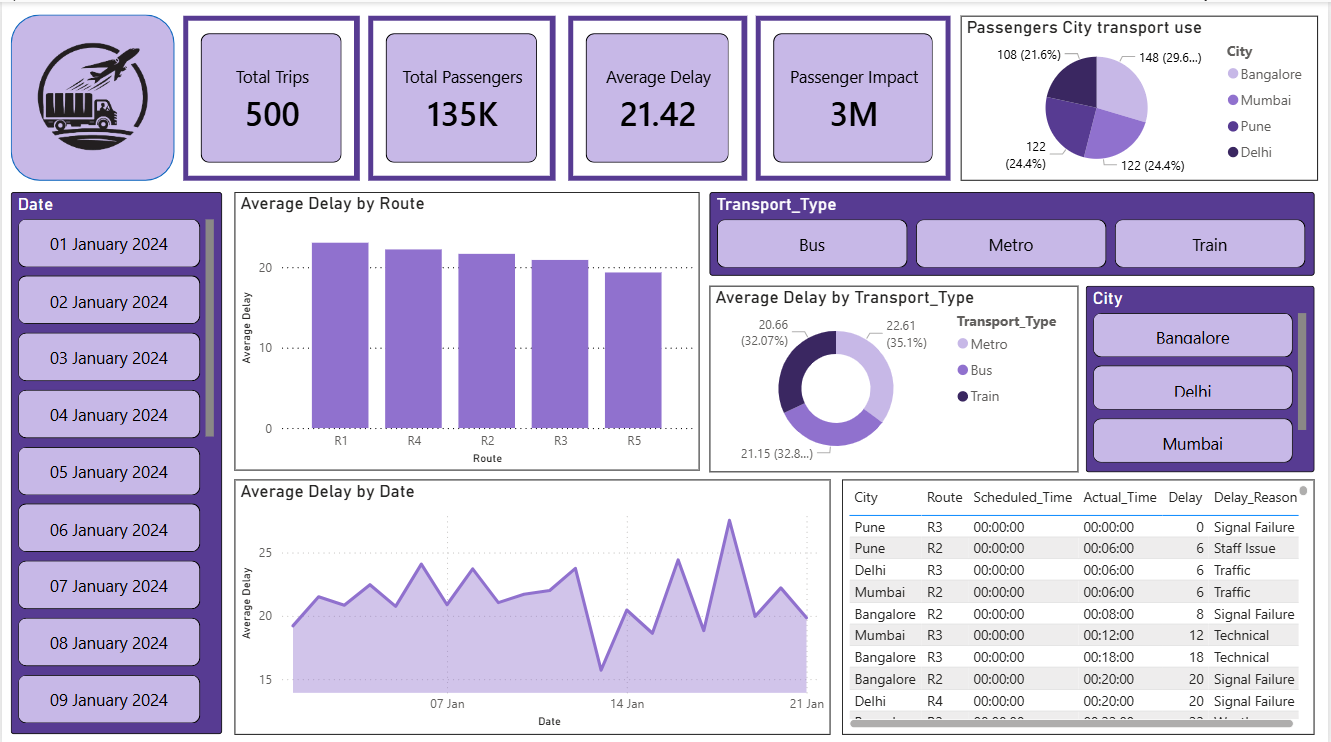

The page's visual inventory and layout, read from the dashboard file:
{"tool":"powerbi","page":{"name":"Page 1","canvas":[1280,720],"ordinal":0},"visuals":[{"type":"shape","box":[8.4,12.1,158,160.5],"z":0},{"type":"image","box":[8.4,9.7,158,162.9],"z":1000},{"type":"cardVisual","fields":{"Data":["CountNonNull(public_transport_delay_data.Source)"]},"box":[174.9,13.3,170.1,159.3],"z":2000},{"type":"cardVisual","fields":{"Data":["Sum(public_transport_delay_data.Passenger_Count)"]},"box":[353.5,13.3,181,159.3],"z":3000},{"type":"cardVisual","fields":{"Data":["Avg(public_transport_delay_data.Delay)"]},"box":[546.5,13.3,172.5,159.3],"z":4000},{"type":"advancedSlicerVisual","fields":{"Values":["public_transport_delay_data.Date"]},"box":[8.4,183.4,203.9,523.6],"z":5000},{"type":"pieChart","title":"Passengers City transport use","fields":{"Category":["public_transport_delay_data.City"],"Y":["CountNonNull(public_transport_delay_data.Date)"]},"box":[925.3,13.3,345,159.3],"z":6000},{"type":"tableEx","fields":{"Values":["public_transport_delay_data.City","public_transport_delay_data.Route","public_transport_delay_data.Scheduled_Time","public_transport_delay_data.Actual_Time","public_transport_delay_data.Delay","public_transport_delay_data.Delay_Reason"]},"box":[810.7,460.9,456,246.1],"z":7000},{"type":"advancedSlicerVisual","fields":{"Values":["public_transport_delay_data.City"]},"box":[1046,273.9,220.8,179.8],"z":8000},{"type":"stackedAreaChart","fields":{"Y":["Avg(public_transport_delay_data.Delay)"],"Category":["public_transport_delay_data.Date"]},"box":[224.4,460.9,575.5,246.1],"z":9000},{"type":"donutChart","fields":{"Category":["public_transport_delay_data.Transport_Type"],"Y":["Avg(public_transport_delay_data.Delay)"]},"box":[682.8,273.9,355.9,179.8],"z":10000},{"type":"clusteredColumnChart","fields":{"Y":["Avg(public_transport_delay_data.Delay)"],"Category":["public_transport_delay_data.Route"]},"box":[224.4,183.4,448.8,269],"z":11000},{"type":"advancedSlicerVisual","fields":{"Values":["public_transport_delay_data.Transport_Type"]},"box":[682.8,183.4,583.9,80.8],"z":12000},{"type":"cardVisual","fields":{"Data":["public_transport_delay_data.Passenger Impact"]},"box":[727.5,13.3,188.2,159.3],"z":12001}]}

Visuals, with their boxes in screenshot pixels (x1, y1, x2, y2), scaled from the page's 1280x720 canvas onto the 1331x742 screenshot:
shape: pyautogui.locateOnScreen(9, 12, 173, 178)
image: pyautogui.locateOnScreen(9, 10, 173, 178)
cardVisual - CountNonNull(public_transport_delay_data.Source): pyautogui.locateOnScreen(182, 14, 359, 178)
cardVisual - Sum(public_transport_delay_data.Passenger_Count): pyautogui.locateOnScreen(368, 14, 556, 178)
cardVisual - Avg(public_transport_delay_data.Delay): pyautogui.locateOnScreen(568, 14, 748, 178)
advancedSlicerVisual - public_transport_delay_data.Date: pyautogui.locateOnScreen(9, 189, 221, 729)
"Passengers City transport use" pieChart: pyautogui.locateOnScreen(962, 14, 1321, 178)
tableEx - public_transport_delay_data.City x public_transport_delay_data.Route: pyautogui.locateOnScreen(843, 475, 1317, 729)
advancedSlicerVisual - public_transport_delay_data.City: pyautogui.locateOnScreen(1088, 282, 1317, 468)
stackedAreaChart - Avg(public_transport_delay_data.Delay) x public_transport_delay_data.Date: pyautogui.locateOnScreen(233, 475, 832, 729)
donutChart - public_transport_delay_data.Transport_Type x Avg(public_transport_delay_data.Delay): pyautogui.locateOnScreen(710, 282, 1080, 468)
clusteredColumnChart - Avg(public_transport_delay_data.Delay) x public_transport_delay_data.Route: pyautogui.locateOnScreen(233, 189, 700, 466)
advancedSlicerVisual - public_transport_delay_data.Transport_Type: pyautogui.locateOnScreen(710, 189, 1317, 272)
cardVisual - public_transport_delay_data.Passenger Impact: pyautogui.locateOnScreen(756, 14, 952, 178)
